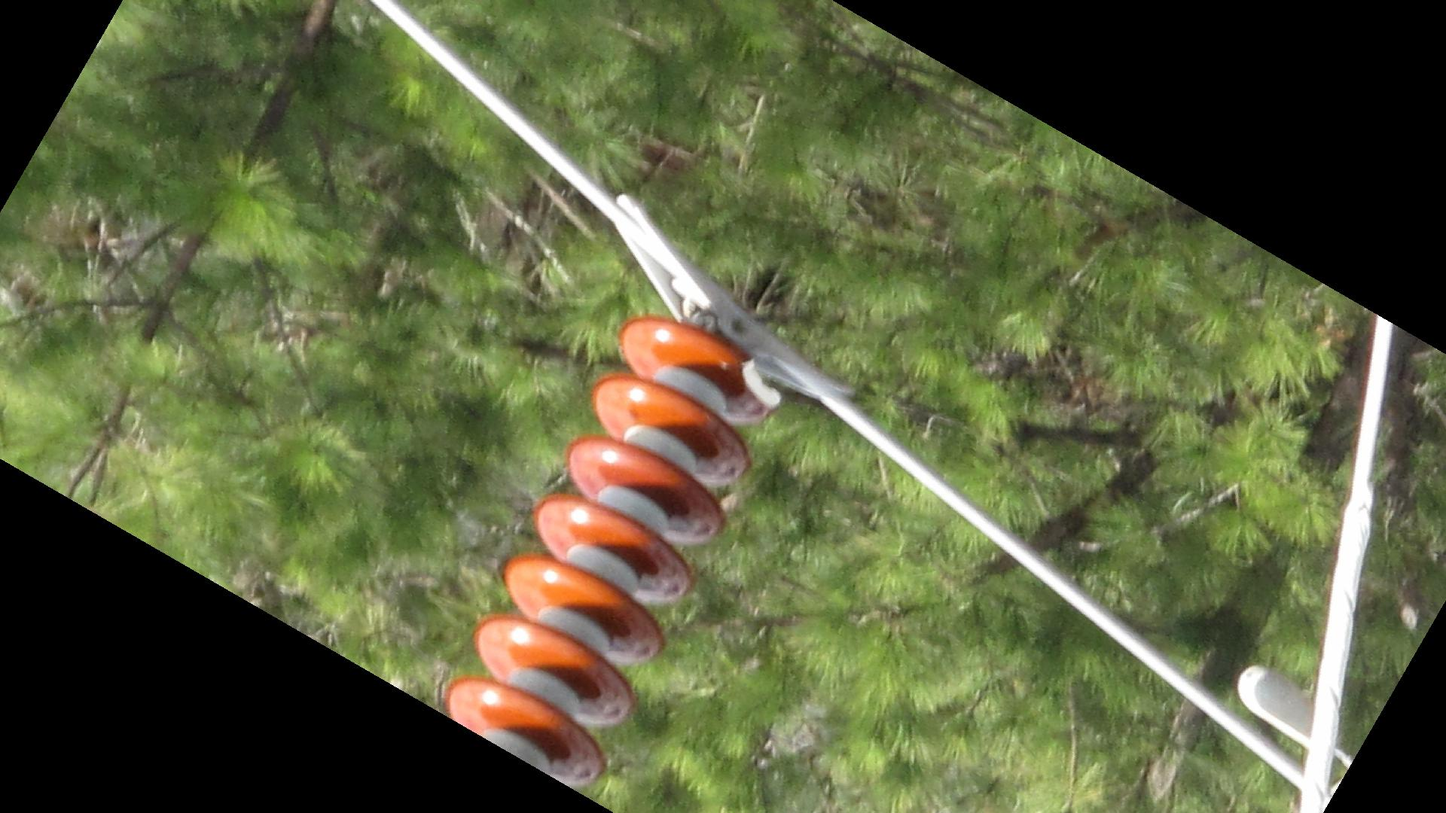insulator: (433, 308, 792, 798)
insulator_breakage: (726, 349, 790, 419)
